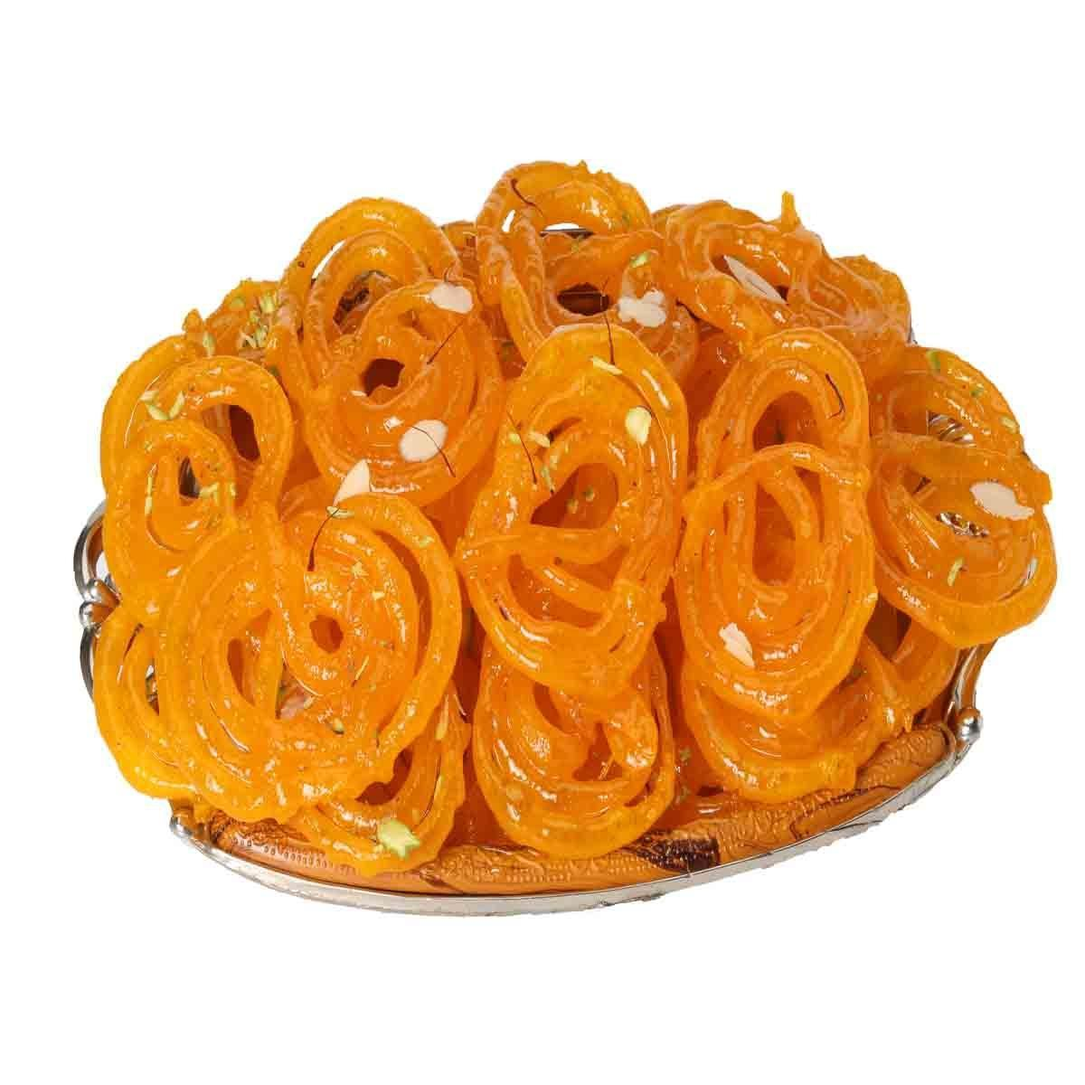jalebi: (87, 167, 1016, 877)
